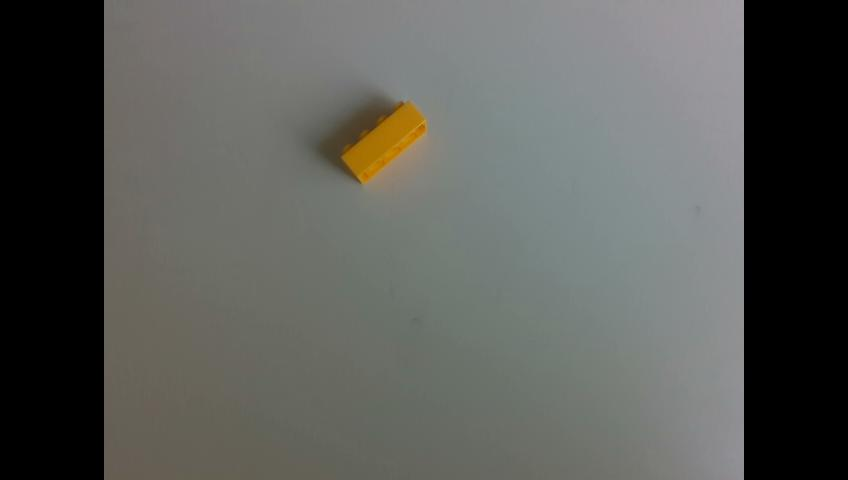4x2_yellow: (344, 99, 427, 182)
